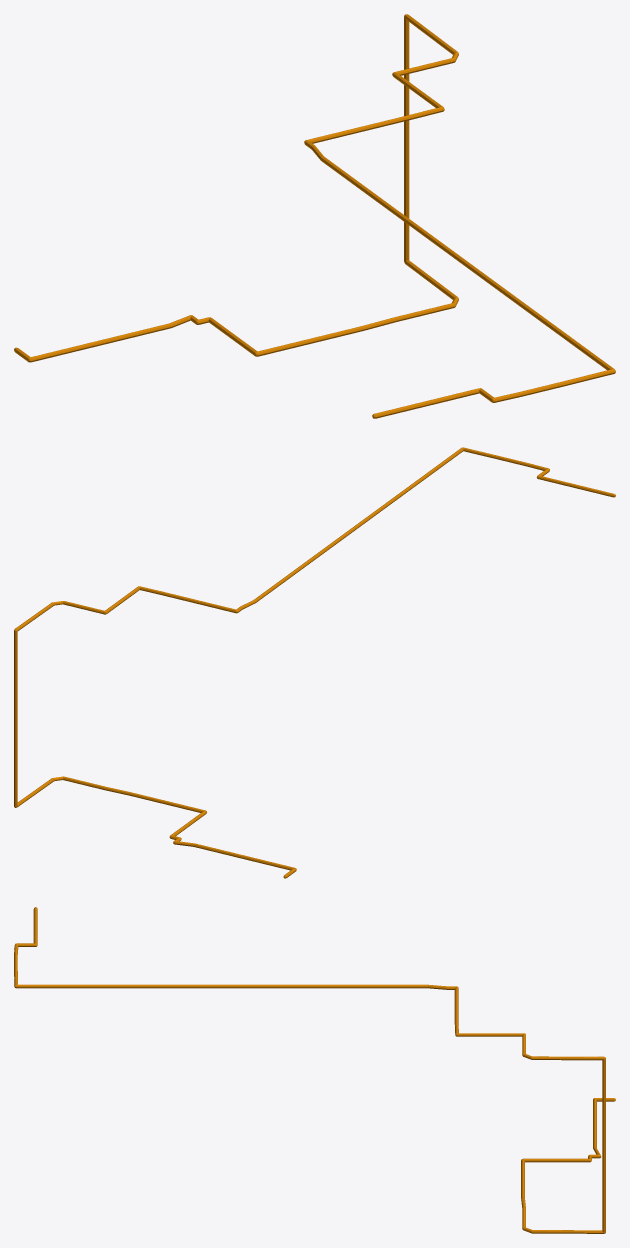
The picture shows the model from 3 angles, top to bottom: view 1: azimuth 30°, elevation 25°; view 2: azimuth 150°, elevation 25°; view 3: azimuth 270°, elevation 25°; orthographic projection. The views are drawn at different scales.
Bounding box in the file's own units: 1870 × 1020 × 3144.
